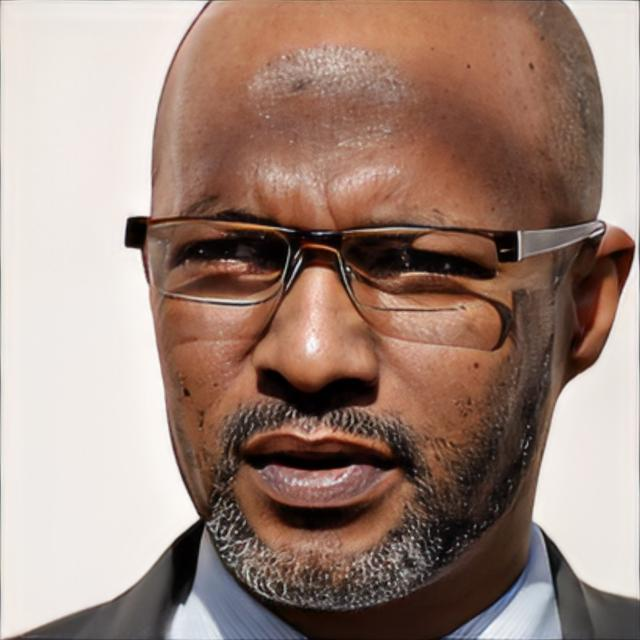anger: (144, 38, 556, 621)
